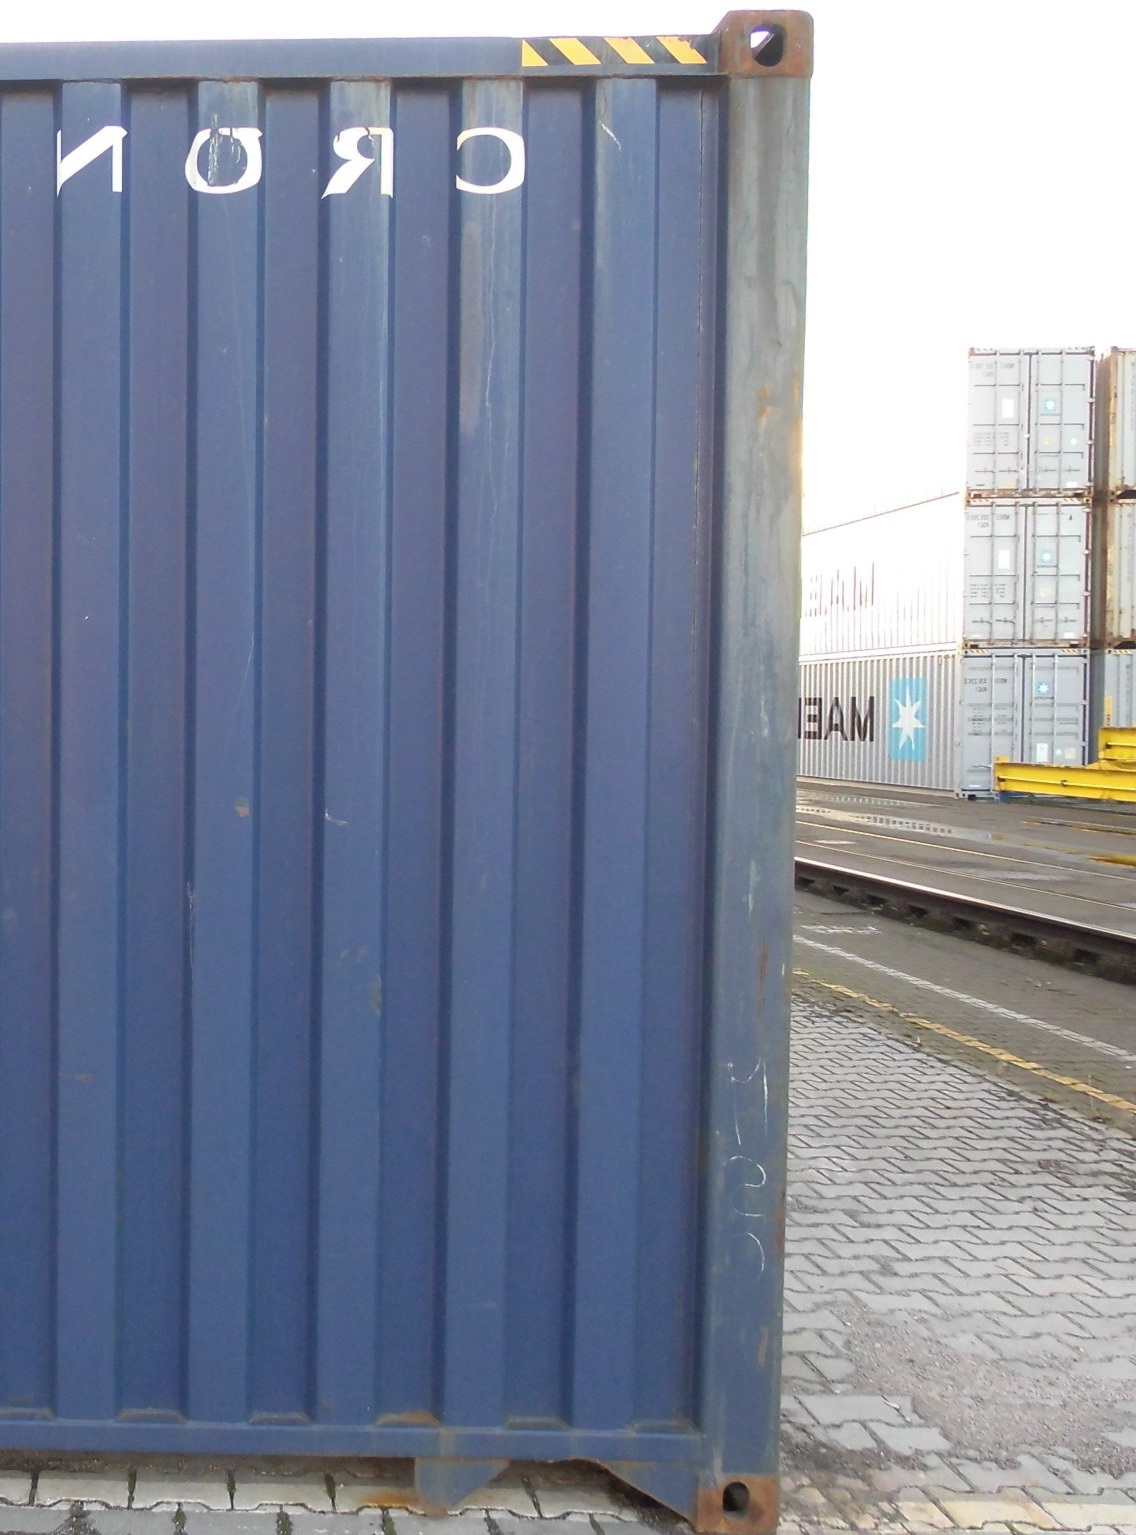container_no_door: (1, 13, 819, 1525)
